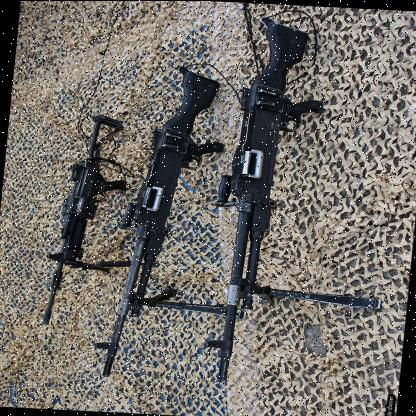rifle: (192, 14, 324, 388), (90, 67, 220, 382), (37, 101, 133, 331)
